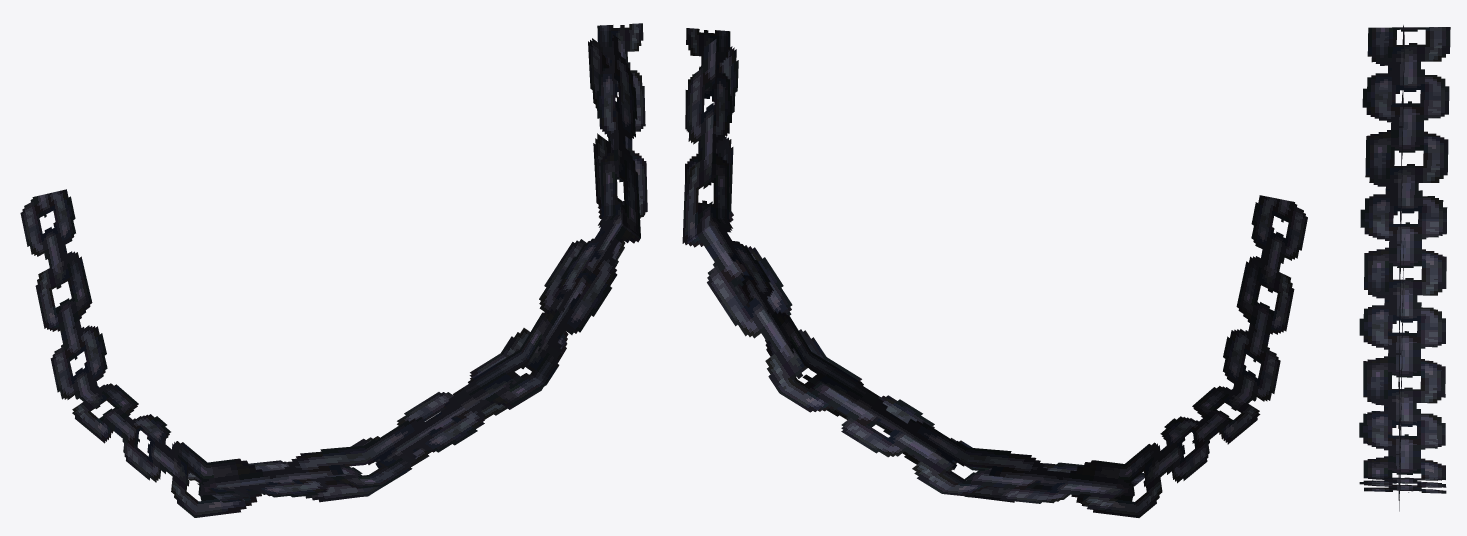
Rendered from 10504_IronRail19.FBX.
3 views of the same model, side by side, from view 1: azimuth 30°, elevation 25°; view 2: azimuth 150°, elevation 25°; view 3: azimuth 270°, elevation 25° (orthographic). The views are drawn at different scales.
Visible parts, largest first — view 1: 10504_IronRail19; view 2: 10504_IronRail19; view 3: 10504_IronRail19.
Boxes of the visible parts, bbox=[...] form: 10504_IronRail19: bbox=[20, 23, 647, 517]; 10504_IronRail19: bbox=[682, 28, 1307, 517]; 10504_IronRail19: bbox=[1359, 25, 1450, 511].
Size of the model in its own units: 348 by 219 by 59.82.
